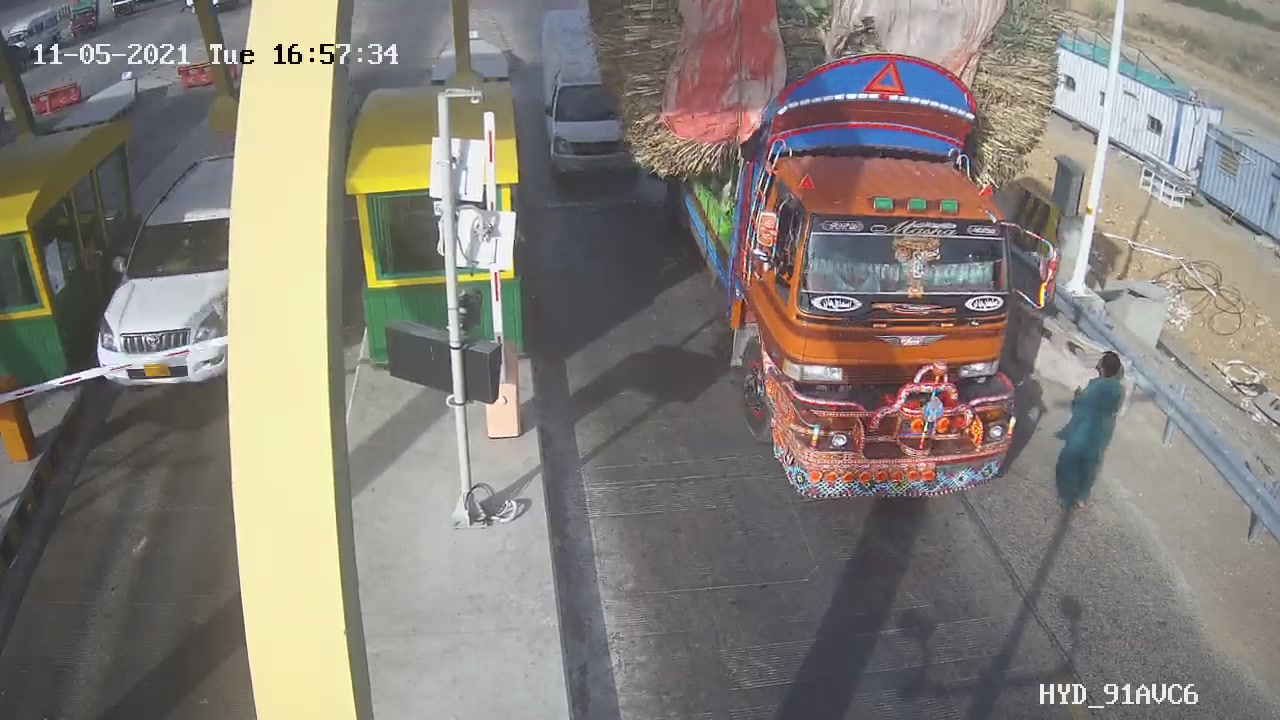F5: (589, 5, 1069, 525)
